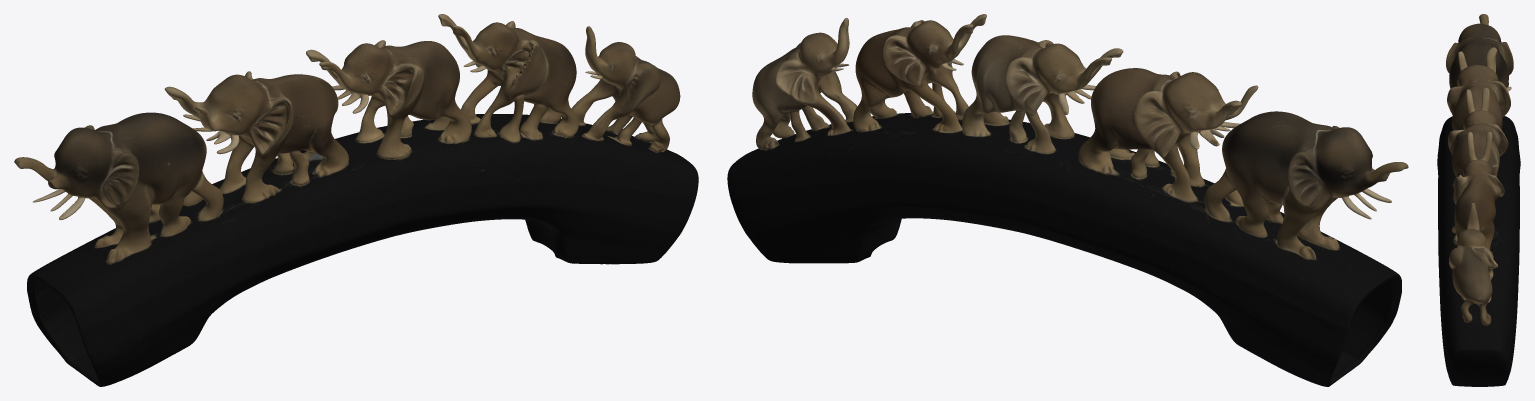
3 views of the same model, side by side, from view 1: azimuth 30°, elevation 25°; view 2: azimuth 150°, elevation 25°; view 3: azimuth 270°, elevation 25° (orthographic). The views are drawn at different scales.
Bounding box in the file's own units: 1.9 × 0.7498 × 0.2959.
1 material, 1 textured.
